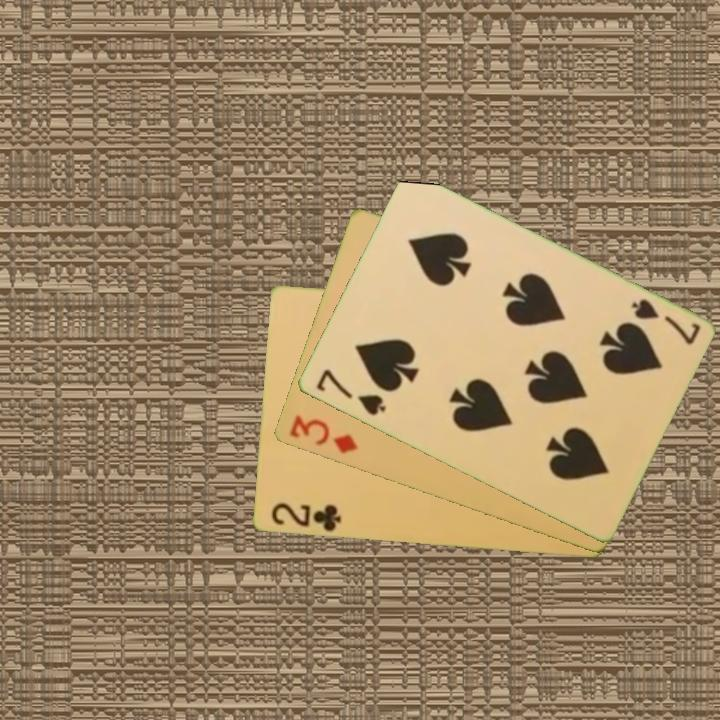2c: (267, 499, 344, 534)
3d: (286, 411, 361, 457)
7s: (312, 365, 389, 419), (627, 295, 703, 348)
